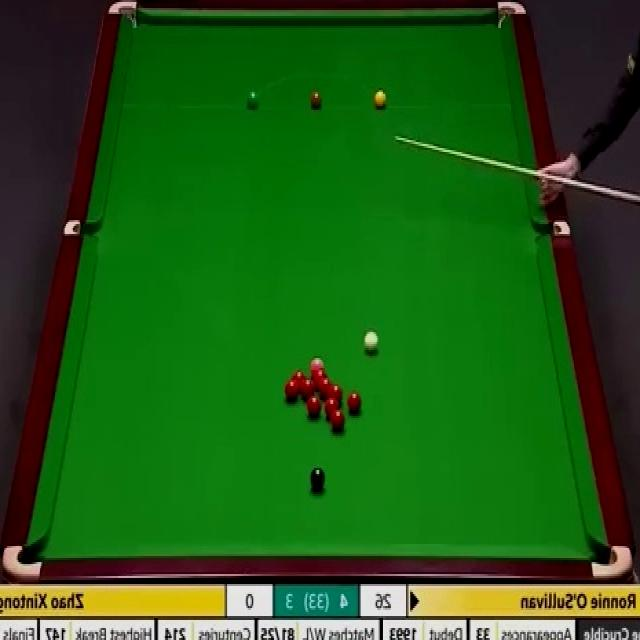pocket: (2, 543, 44, 583), (591, 543, 633, 580), (495, 0, 531, 34), (107, 0, 142, 32), (62, 220, 103, 235), (535, 220, 573, 235)
